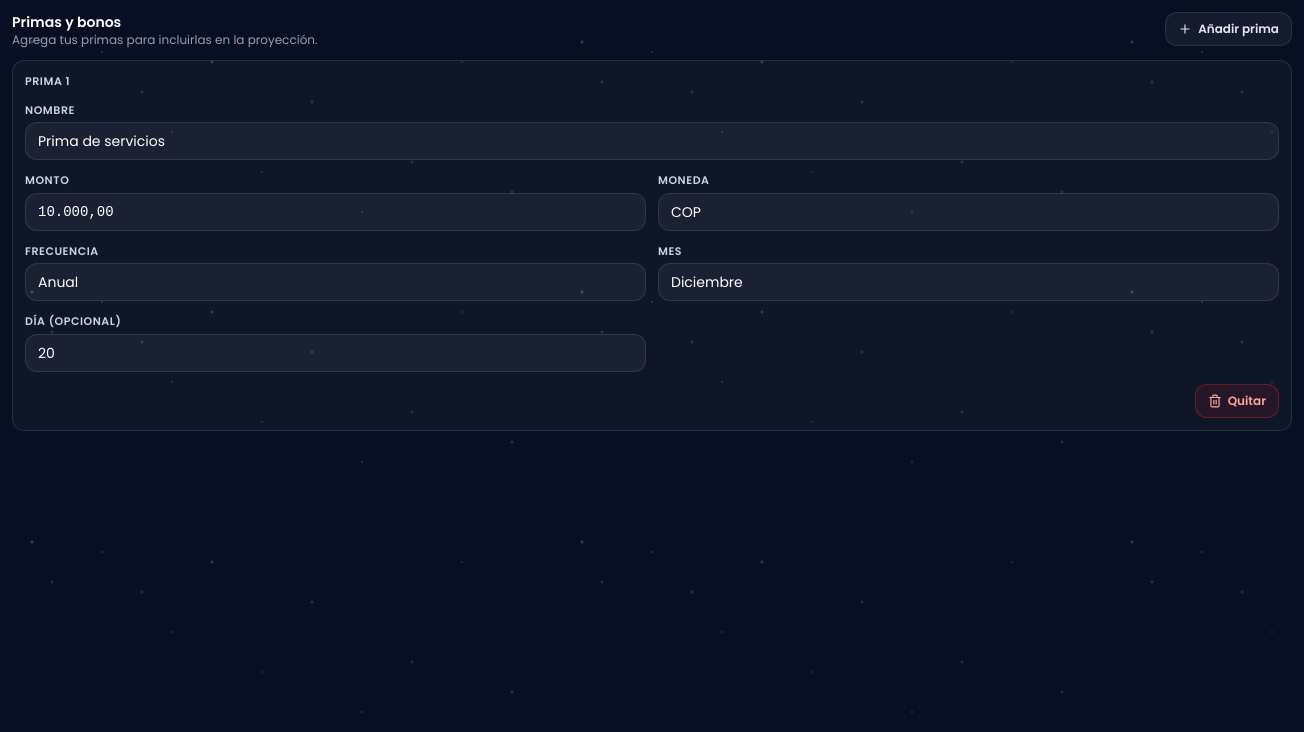
Test: BonusListEditor › removes a bonus from the list
Click the button "Quitar" at (1237, 400), box [1195,384,1279,418]
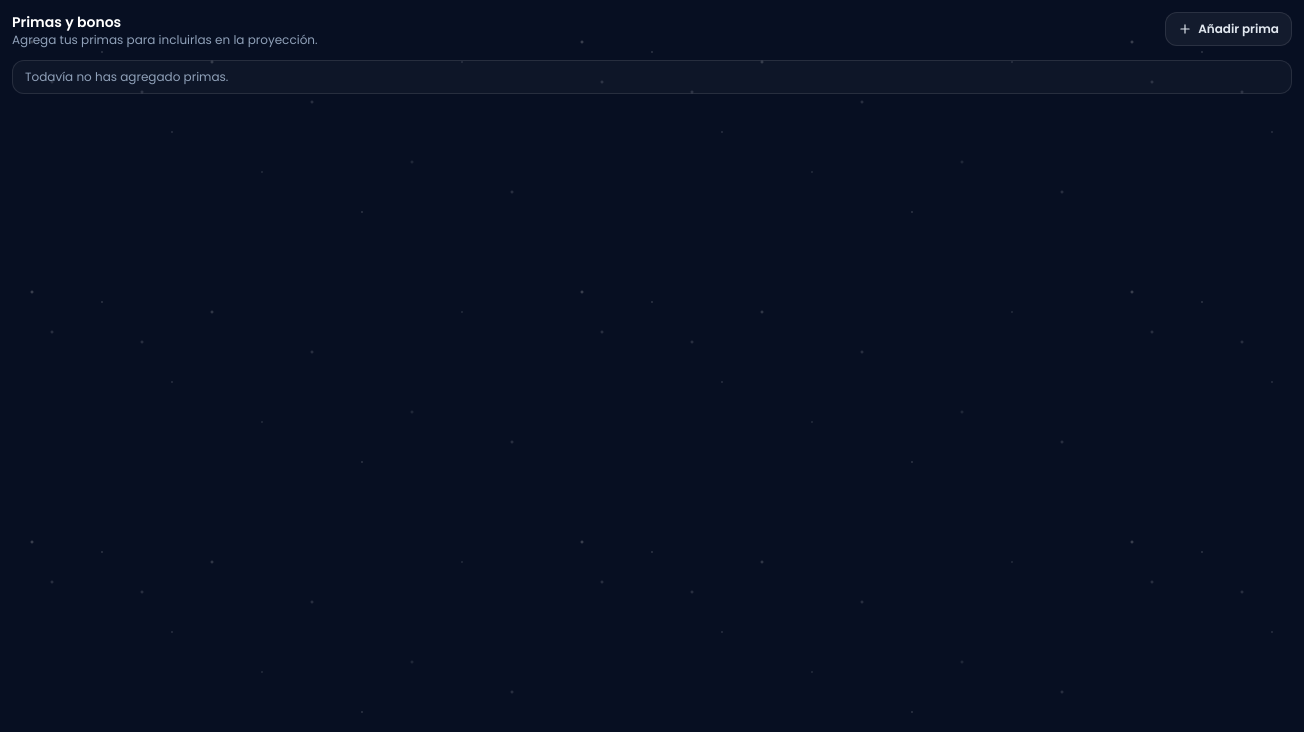
Check: the text "Prima 1" is gone
Check: the text "Todavía no has agregado primas." is shown, box [12,60,1292,94]
